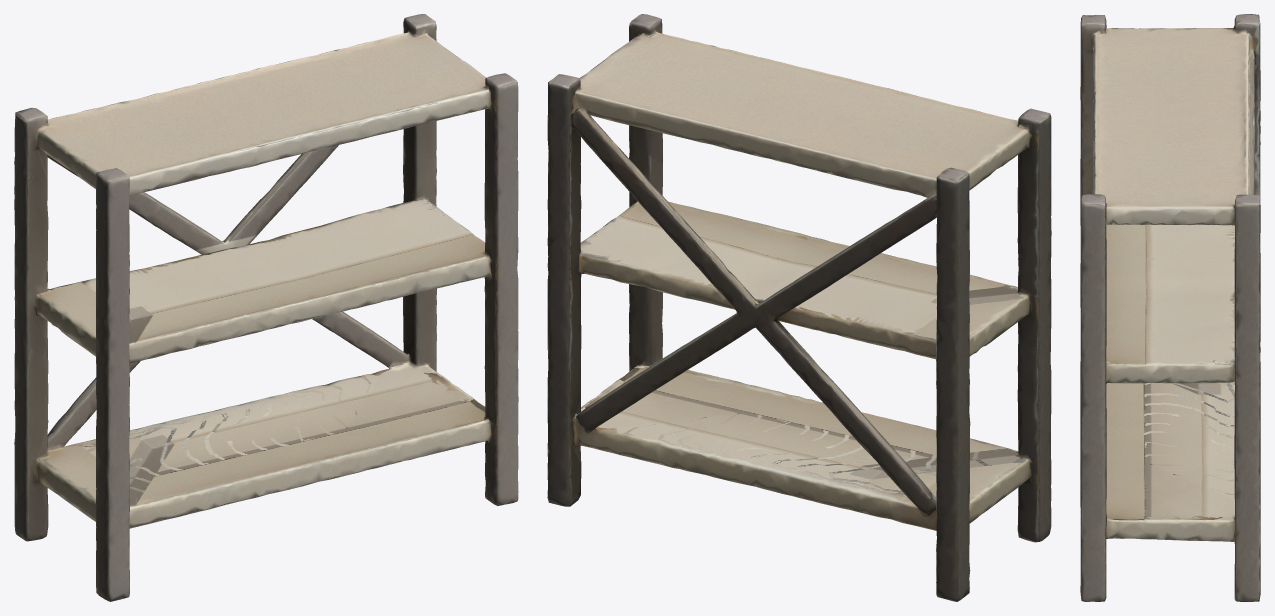
Rendered from P_StorageRack_h90.fbx.
3 renders of one model, left to right at view 1: azimuth 30°, elevation 25°; view 2: azimuth 150°, elevation 25°; view 3: azimuth 270°, elevation 25°, orthographic. The views are drawn at different scales.
Visible parts, largest first — view 1: texture_mapping; view 2: texture_mapping; view 3: texture_mapping.
Boxes of the visible parts, <box> form: texture_mapping: <box>14,14,518,601</box>; texture_mapping: <box>547,14,1051,601</box>; texture_mapping: <box>1080,14,1260,601</box>.
Bounding box in the file's own units: 0.9947 × 0.3993 × 0.9779.
Materials: 1 (1 with a texture image).
